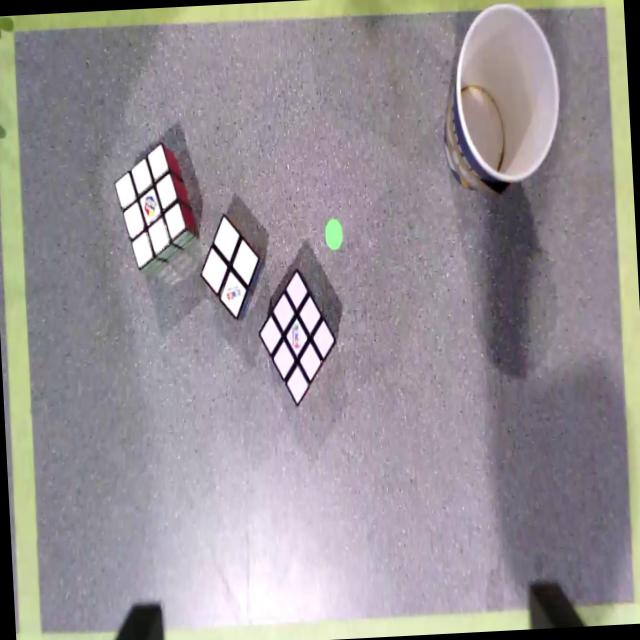cube2-white: (202, 214, 259, 319)
cube3-white: (259, 272, 336, 404), (114, 142, 186, 269)
